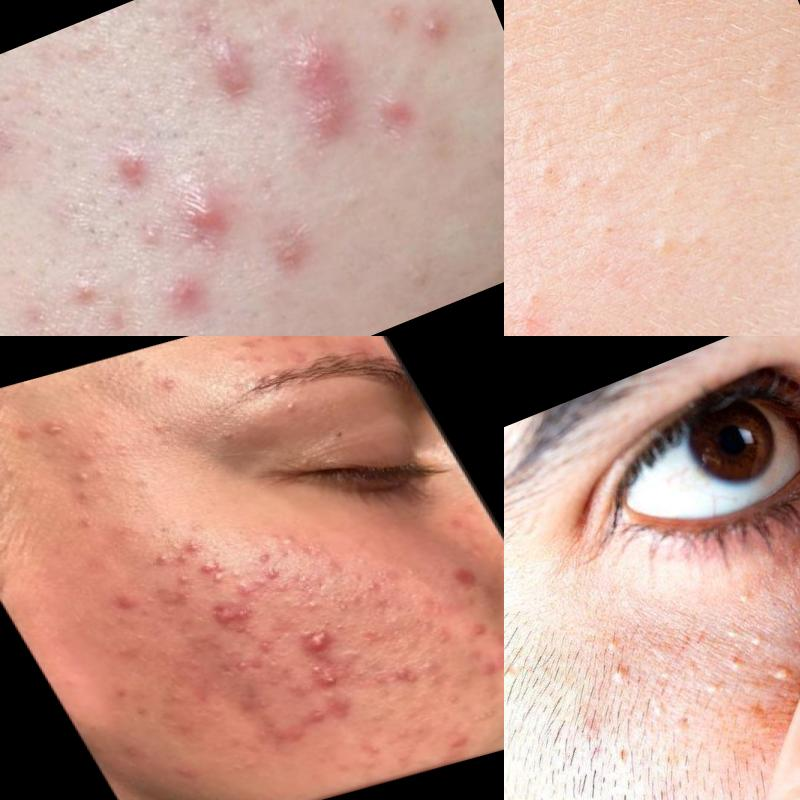flat_wart: (687, 655, 766, 723), (584, 627, 654, 698)
milium: (756, 647, 800, 698), (705, 613, 747, 657), (719, 578, 763, 618)
papular: (159, 193, 238, 266), (188, 46, 265, 120), (358, 82, 428, 158), (153, 269, 215, 337), (102, 131, 155, 201), (304, 681, 367, 724), (437, 562, 487, 596), (381, 657, 431, 691), (100, 591, 144, 618), (161, 581, 203, 607), (222, 653, 261, 678), (466, 658, 504, 683), (459, 618, 495, 642), (442, 730, 476, 754), (301, 706, 334, 727), (250, 635, 280, 656), (485, 648, 505, 679)
purulent: (23, 410, 80, 446), (193, 553, 243, 590), (310, 664, 356, 695), (297, 658, 333, 680), (257, 563, 290, 586), (248, 547, 281, 569), (177, 536, 207, 555), (149, 551, 175, 569), (172, 550, 198, 568), (170, 572, 196, 590)
sebo-crystan-conglo: (267, 13, 374, 160), (403, 4, 470, 85), (189, 595, 259, 637), (285, 622, 348, 659)
whitehead: (605, 177, 783, 305), (529, 131, 637, 226), (49, 443, 121, 492), (402, 647, 456, 696), (217, 337, 277, 375), (272, 388, 326, 425), (141, 365, 189, 401), (291, 592, 333, 619), (228, 579, 268, 604), (466, 706, 505, 727), (338, 587, 372, 611), (327, 595, 355, 618), (117, 742, 146, 763), (358, 737, 388, 757), (366, 710, 390, 727), (441, 691, 465, 707), (491, 688, 505, 709)
